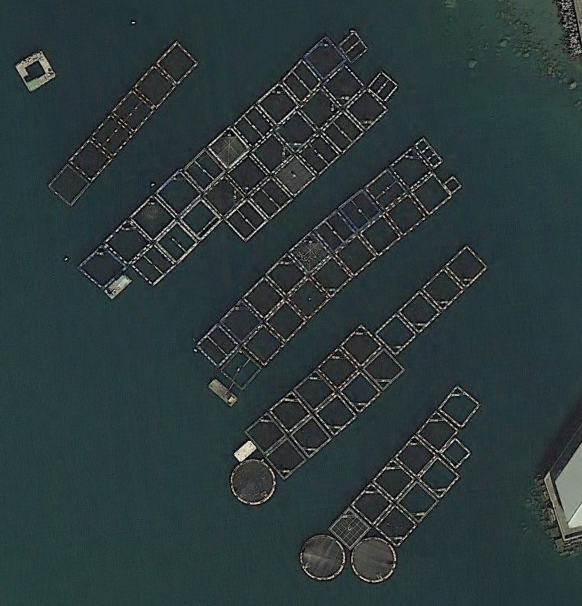circle: (294, 528, 350, 586), (345, 531, 401, 587), (225, 457, 284, 506)
square: (69, 237, 129, 291), (235, 319, 291, 372), (126, 189, 179, 242), (153, 166, 206, 219), (282, 272, 335, 325), (433, 380, 487, 431), (313, 343, 367, 394), (259, 296, 309, 351), (102, 214, 154, 266), (320, 107, 372, 159), (335, 184, 386, 237), (302, 252, 356, 302), (266, 388, 317, 440), (290, 366, 342, 417), (129, 240, 179, 293), (396, 284, 447, 335), (371, 501, 422, 552), (151, 37, 203, 87), (360, 166, 412, 216), (64, 135, 117, 184), (298, 126, 348, 177), (390, 429, 441, 479), (369, 452, 418, 504), (87, 110, 140, 158), (416, 451, 464, 504), (340, 314, 388, 367), (106, 86, 160, 133), (205, 122, 255, 172), (216, 296, 266, 346), (310, 389, 360, 439), (180, 143, 231, 192), (249, 127, 298, 178), (261, 434, 310, 485), (42, 159, 95, 206), (12, 46, 62, 95), (384, 192, 434, 241), (309, 208, 360, 256), (286, 413, 334, 464), (279, 54, 326, 106), (355, 344, 407, 391), (350, 476, 396, 529), (226, 197, 275, 246), (154, 217, 202, 267), (272, 152, 322, 200), (288, 227, 336, 277), (442, 241, 490, 291), (334, 367, 384, 415), (193, 322, 244, 369), (179, 193, 225, 245), (262, 250, 310, 299), (386, 144, 434, 193), (325, 504, 374, 552), (255, 79, 302, 129), (272, 107, 322, 154), (247, 175, 297, 222), (374, 309, 421, 359), (418, 266, 470, 311), (344, 87, 392, 135), (240, 274, 289, 321), (355, 212, 404, 259), (395, 477, 440, 528), (214, 347, 266, 391), (414, 409, 462, 456), (229, 151, 274, 201), (129, 64, 180, 108), (334, 233, 381, 280), (321, 63, 367, 111), (230, 99, 275, 148), (204, 171, 249, 219), (299, 84, 344, 132), (303, 32, 347, 81), (410, 171, 454, 220), (244, 411, 293, 454), (339, 24, 373, 63), (365, 69, 404, 101), (440, 436, 472, 466), (444, 173, 464, 198), (425, 151, 444, 172), (413, 134, 430, 153), (422, 142, 436, 161)
